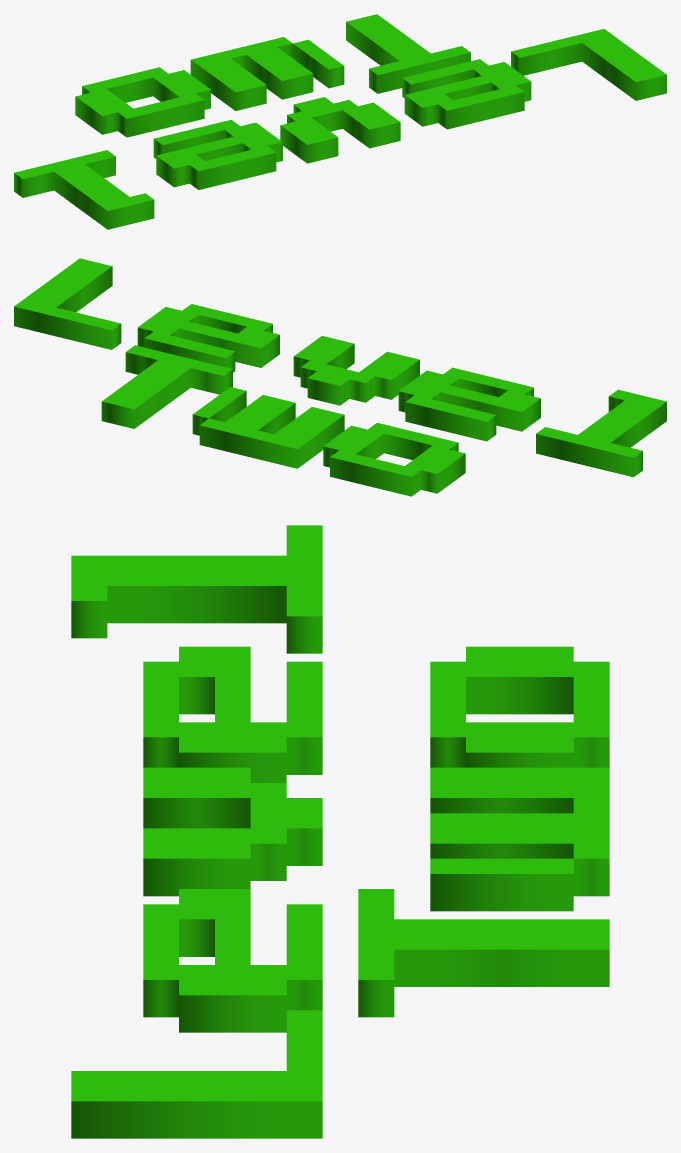
File: level_two.fbx
3 views of the same model, one above another, from view 1: azimuth 30°, elevation 25°; view 2: azimuth 150°, elevation 25°; view 3: azimuth 270°, elevation 25° (orthographic). The views are drawn at different scales.
Visible parts, largest first — view 1: Text; view 2: Text; view 3: Text.
Boxes of the visible parts, x1=… form: Text: x1=14, y1=14, x2=666, y2=229; Text: x1=14, y1=258, x2=666, y2=496; Text: x1=71, y1=525, x2=609, y2=1138.
Bounding box in the file's own units: 4.75 × 0.144 × 1.88.
